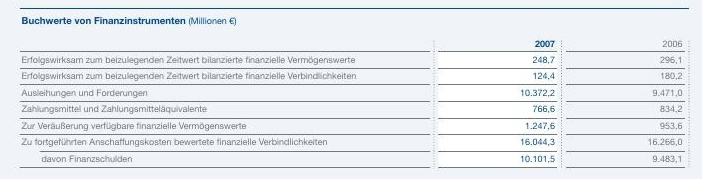table: (0, 0, 702, 179)
